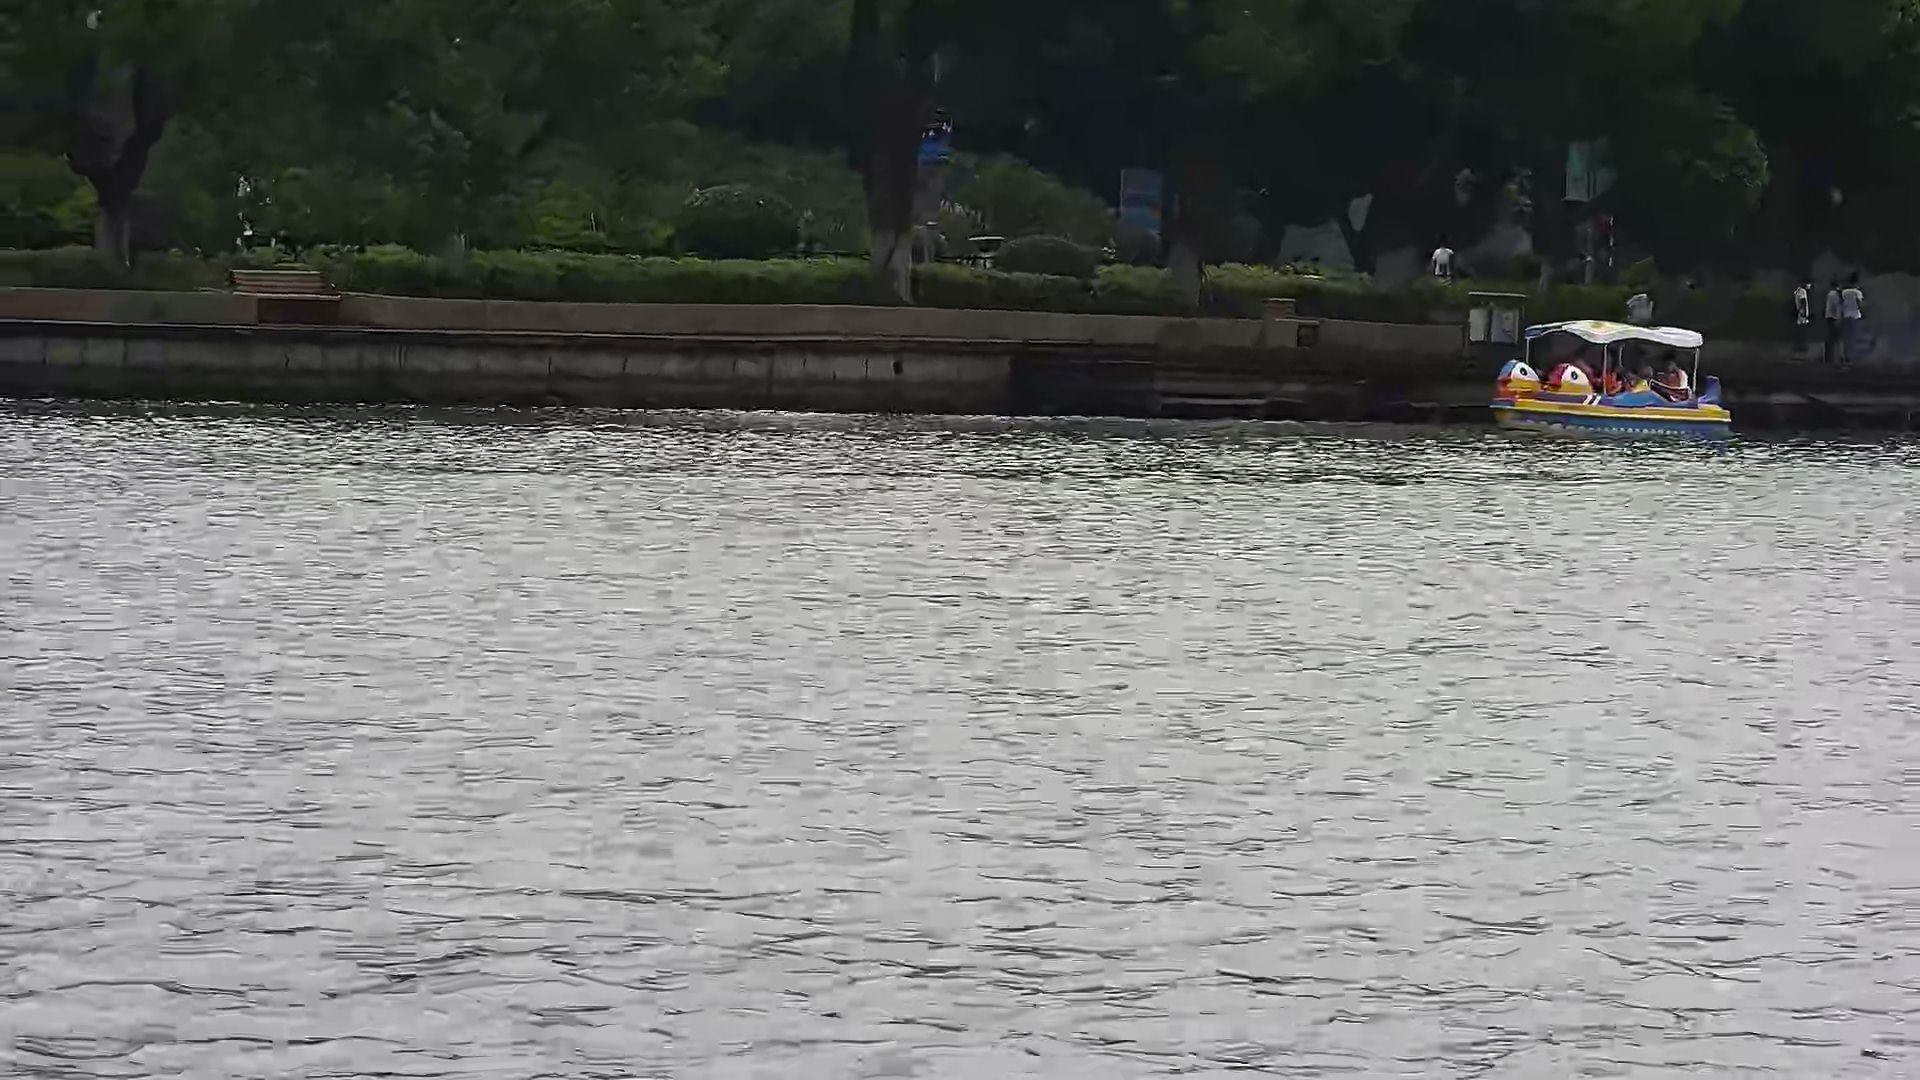boat: (1491, 313, 1739, 442)
